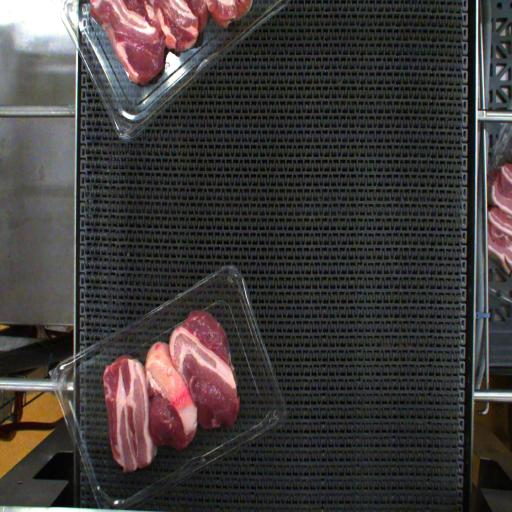twisted-meat: (150, 341, 196, 439)
